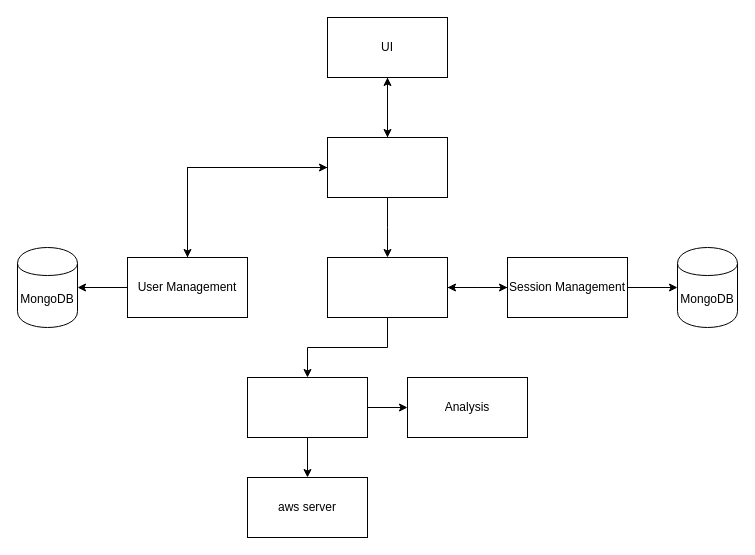
Some shapes in this 755 by 555 pixel diagram are drawn without their labels. The shapes that lost their labels are listed below. From the top down, each one's centre as x and y in pixels, then its label:
At (387,167): "API Gateway".
At (387,287): "RabbitMQ".
At (307,407): "Data Retrieval".
